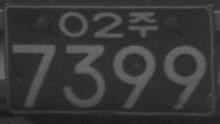0: (58, 11, 88, 38)
2: (92, 10, 124, 38)
3: (63, 44, 106, 108)
7: (12, 43, 56, 107)
9: (162, 44, 208, 110), (112, 44, 157, 108)
주: (128, 11, 158, 38)
